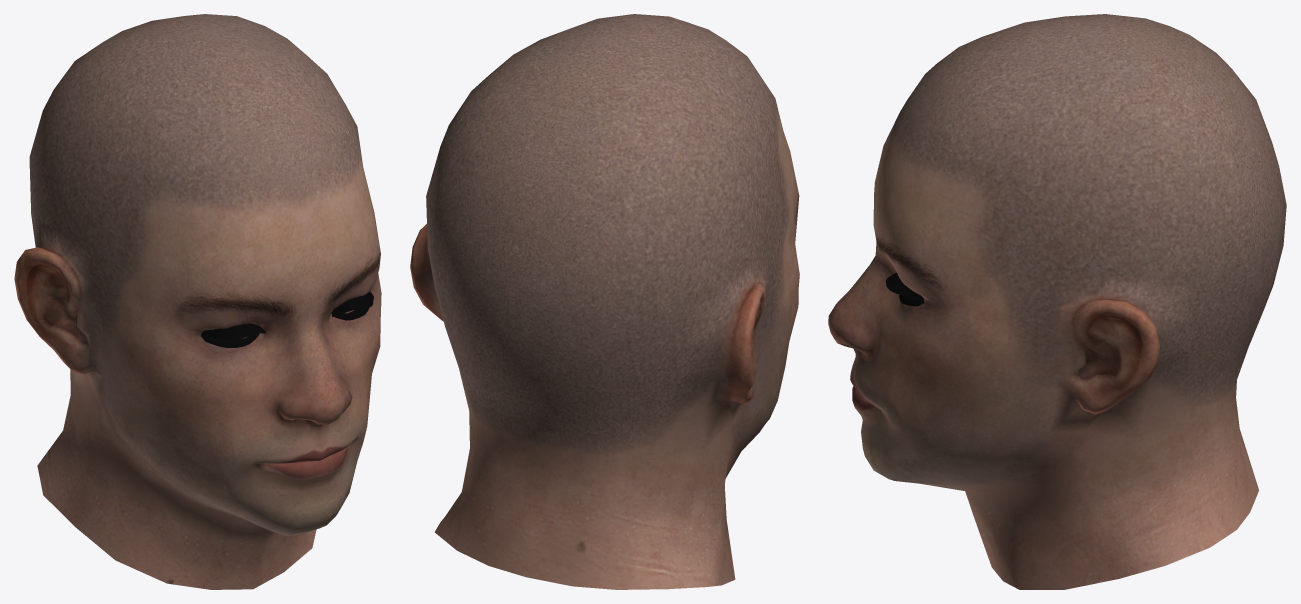
Rendered from SurvivorMale_Head_04_LOD0.glb.
The picture shows the model from 3 angles, left to right: view 1: azimuth 30°, elevation 25°; view 2: azimuth 150°, elevation 25°; view 3: azimuth 270°, elevation 25°; orthographic projection. The views are drawn at different scales.
Visible parts, largest first — view 1: Hoodie; view 2: Hoodie; view 3: Hoodie.
Boxes of the visible parts, box(x1,y1,x2,y2) form: Hoodie: box(14, 14, 381, 589); Hoodie: box(410, 14, 799, 589); Hoodie: box(828, 14, 1286, 589).
Size of the model in its own units: 0.1845 by 0.2885 by 0.223.
1 material, 1 textured.
